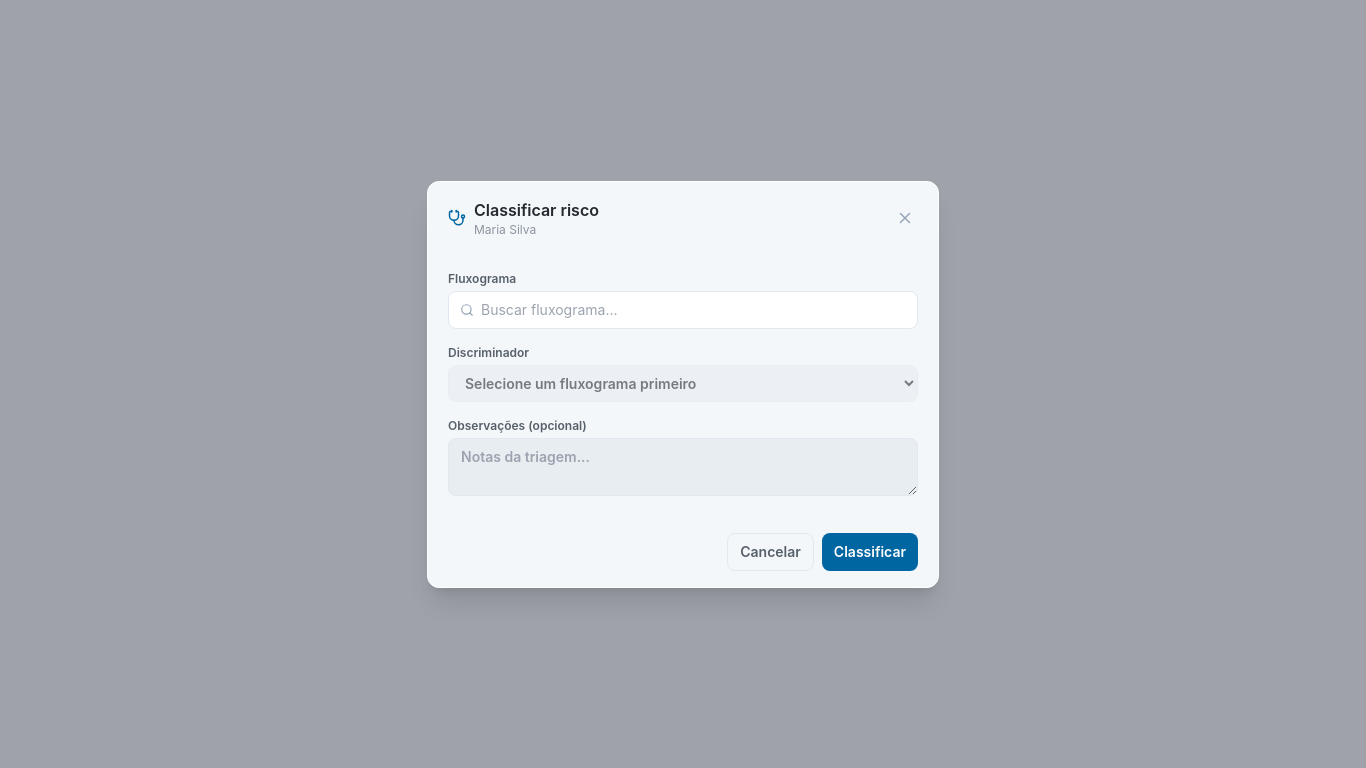
Test case: TriageClassifyModal › requires a discriminador before posting
Click the button "Classificar": (870, 552) [822, 532, 918, 570]
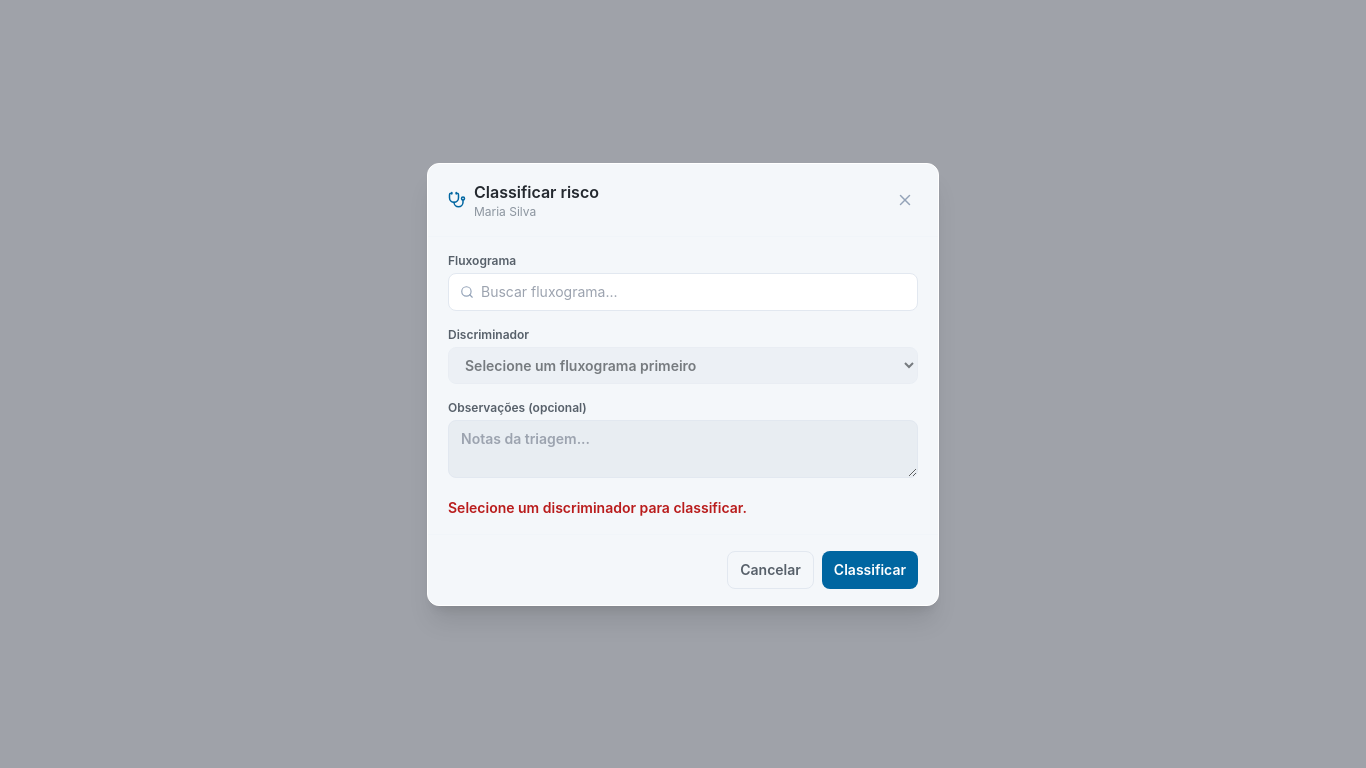
Check: the text "Selecione um discriminador para classificar." is shown, box [448, 498, 747, 516]
